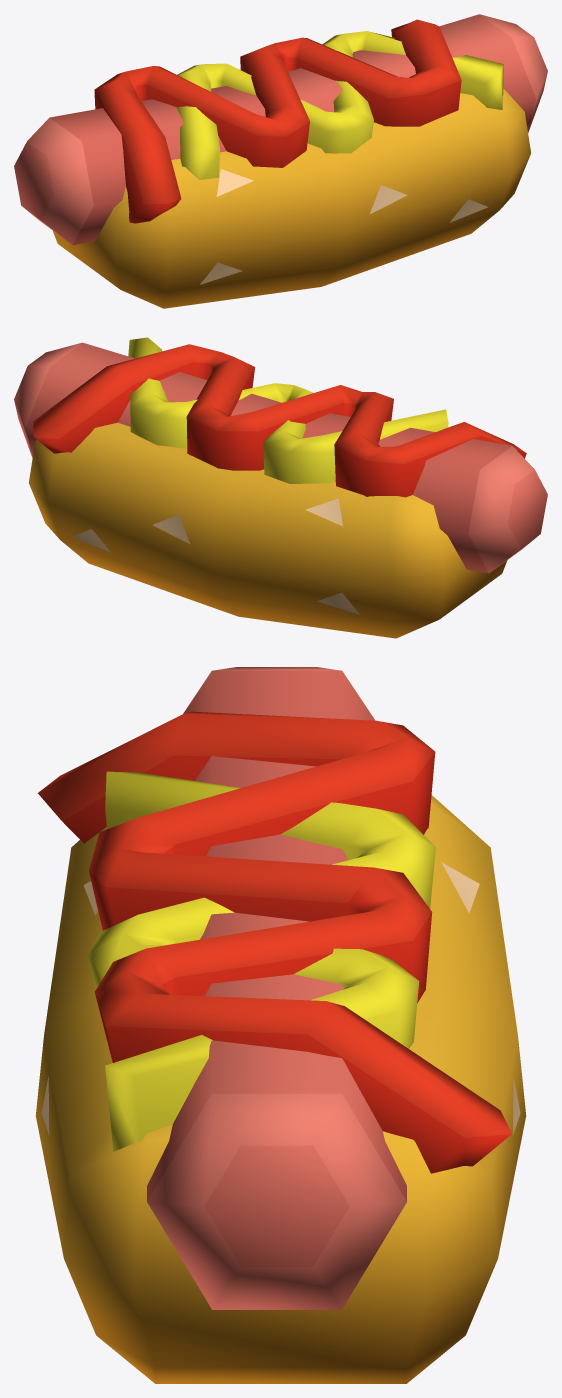
File: HotDog.fbx
3 renders of one model, top to bottom at view 1: azimuth 30°, elevation 25°; view 2: azimuth 150°, elevation 25°; view 3: azimuth 270°, elevation 25°, orthographic. The views are drawn at different scales.
Parts seen in each view (by area): view 1: HotDog; view 2: HotDog; view 3: HotDog.
Boxes of the visible parts, <box> form: HotDog: <box>14,14,547,308</box>; HotDog: <box>14,337,547,638</box>; HotDog: <box>35,667,526,1383</box>.
Bounding box in the file's own units: 6 × 2.31 × 2.53.
